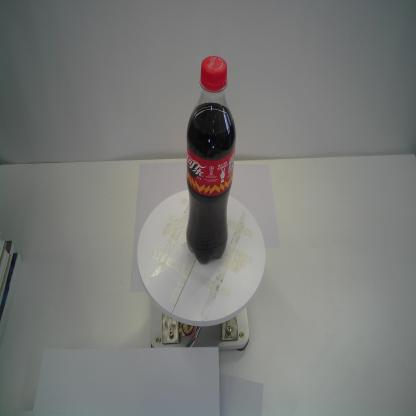Drink: (184, 53, 238, 266)
